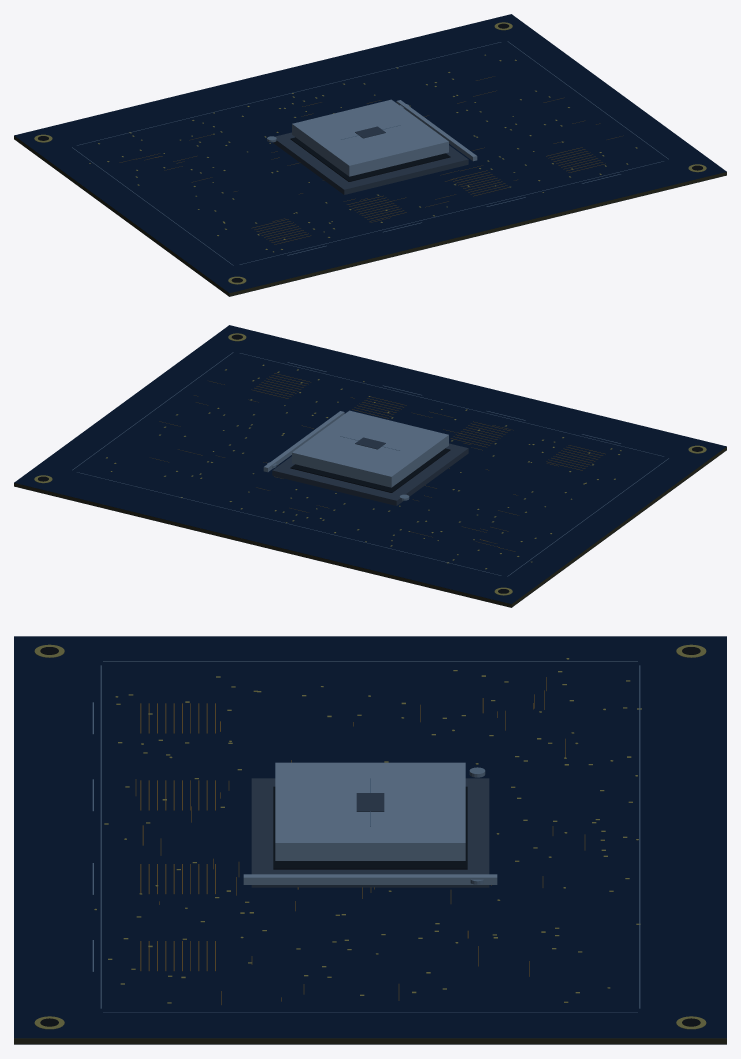
Rendered from L103_CPX11_Assembled_REFERENCE_ONLY.fbx.
3 renders of one model, top to bottom at view 1: azimuth 30°, elevation 25°; view 2: azimuth 150°, elevation 25°; view 3: azimuth 270°, elevation 25°, orthographic. The views are drawn at different scales.
Visible parts, largest first — view 1: L103_CPX11_Assembled_REFERENCE_ONLY; view 2: L103_CPX11_Assembled_REFERENCE_ONLY; view 3: L103_CPX11_Assembled_REFERENCE_ONLY.
Part boxes in pixels (x1=…): L103_CPX11_Assembled_REFERENCE_ONLY: x1=14, y1=14, x2=726, y2=296; L103_CPX11_Assembled_REFERENCE_ONLY: x1=14, y1=325, x2=726, y2=607; L103_CPX11_Assembled_REFERENCE_ONLY: x1=14, y1=636, x2=726, y2=1044.
Size of the model in its own units: 24 by 1.16 by 18.
